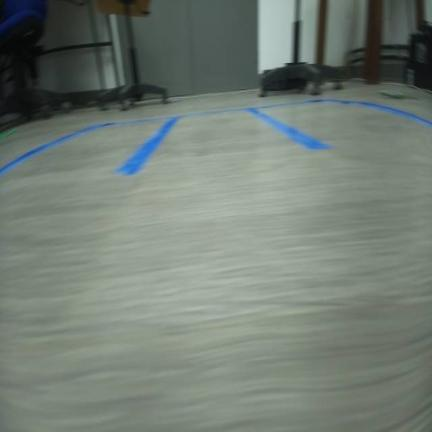place: (119, 106, 329, 174), (0, 114, 182, 173), (249, 96, 431, 149)
